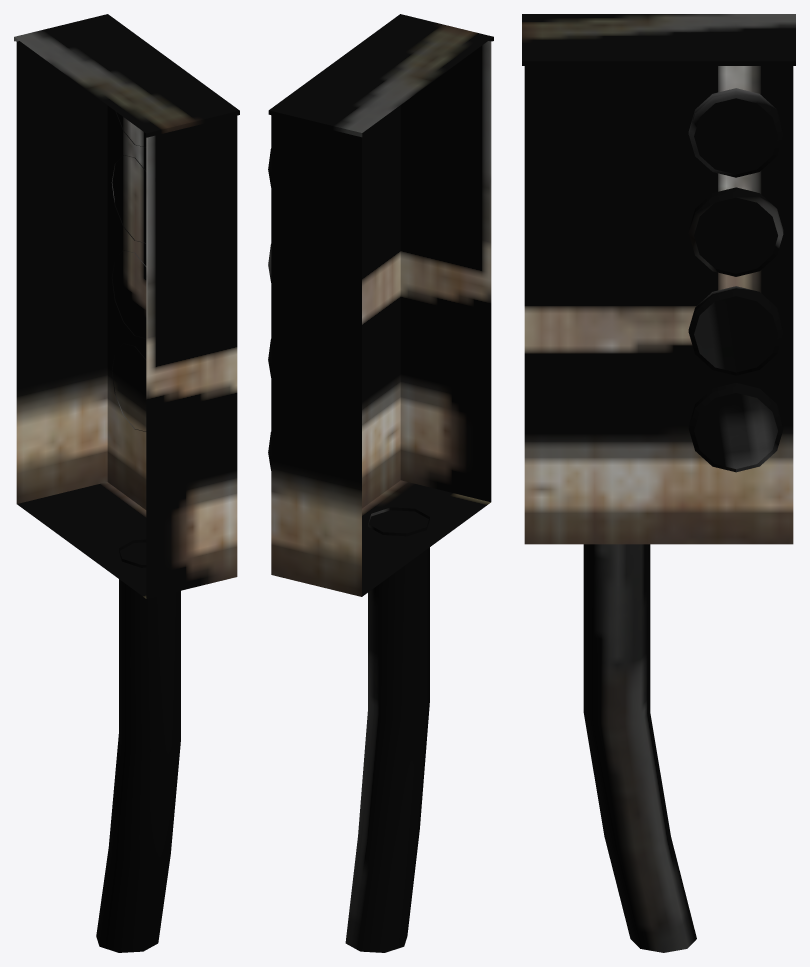
The model's file is Lg_Elec_Box.fbx.
The picture shows the model from 3 angles, left to right: view 1: azimuth 30°, elevation 25°; view 2: azimuth 150°, elevation 25°; view 3: azimuth 270°, elevation 25°; orthographic projection. The views are drawn at different scales.
Visible parts, largest first — view 1: polySurface90; view 2: polySurface90; view 3: polySurface90.
Part boxes in pixels (x1,y1,x2,y2): polySurface90: (14, 14, 239, 952); polySurface90: (268, 14, 493, 952); polySurface90: (522, 14, 795, 952).
Bounding box in the file's own units: 0.5997 × 4.83 × 1.33.
